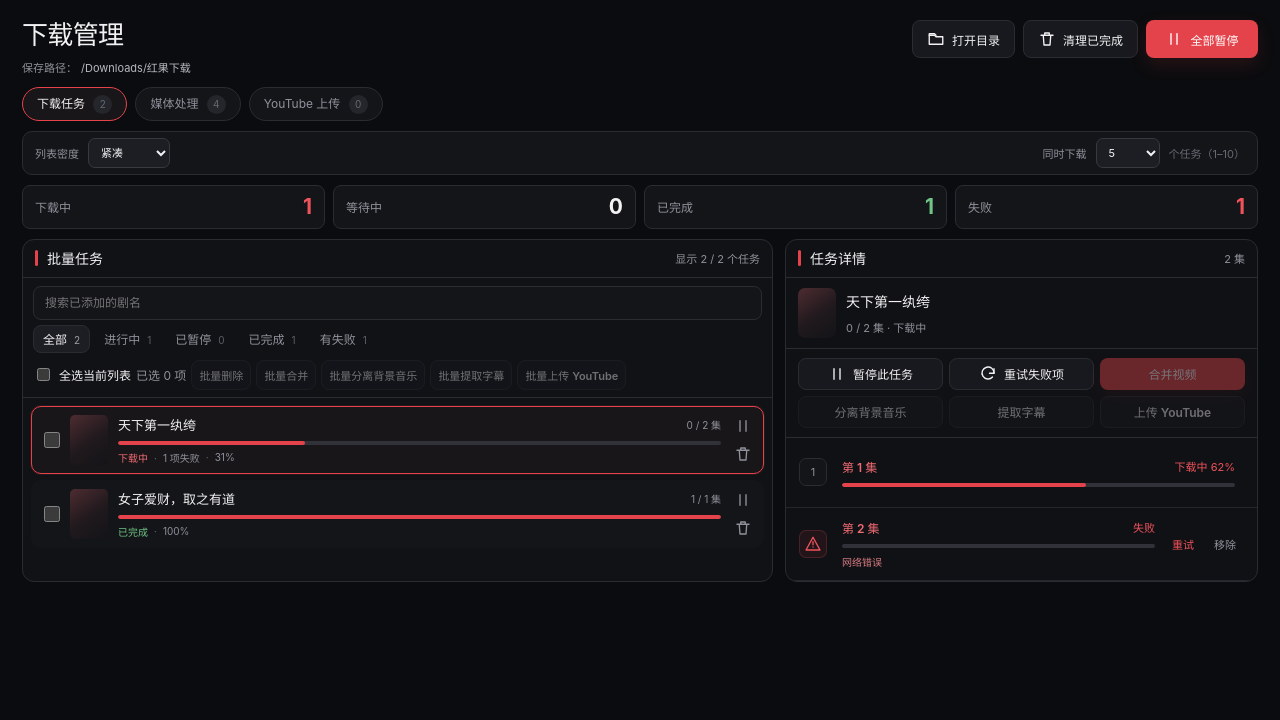
it: DownloadManagerPage › renders one row per series and switches the fixed episode detail
Expected: the number of elements with test id "download-batch-row" is 2, [31,406,764,474]; [31,480,764,548]
Click the button with aria-label "查看 女子爱财，取之有道 任务详情" at x=396, y=514, box [64,481,727,547]
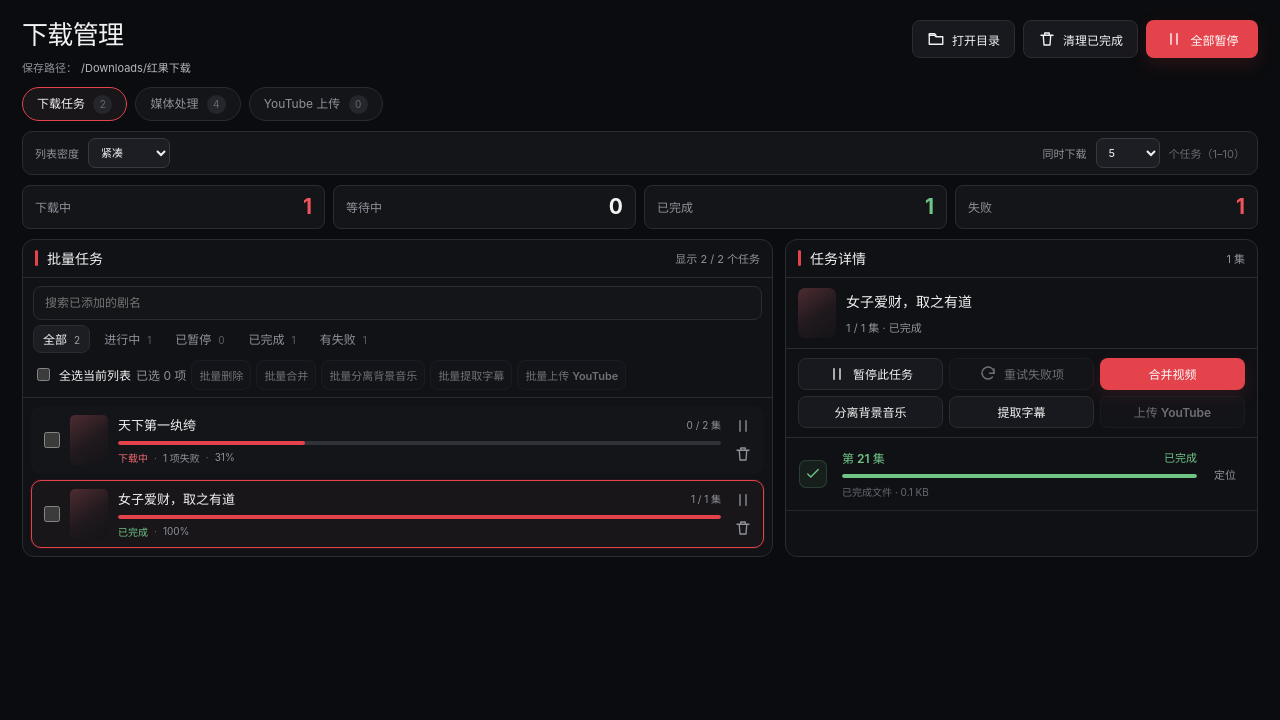
Now the text "第 21 集" is shown, box [842,449,885,466]
Now the text "已完成文件 · 0.1 KB" is shown, box [842,486,929,498]
